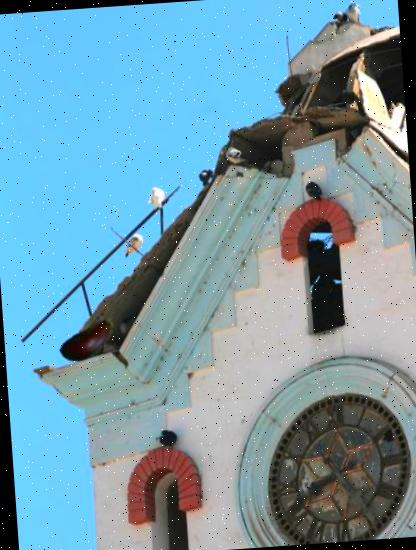Eggplant: (56, 308, 124, 375)
